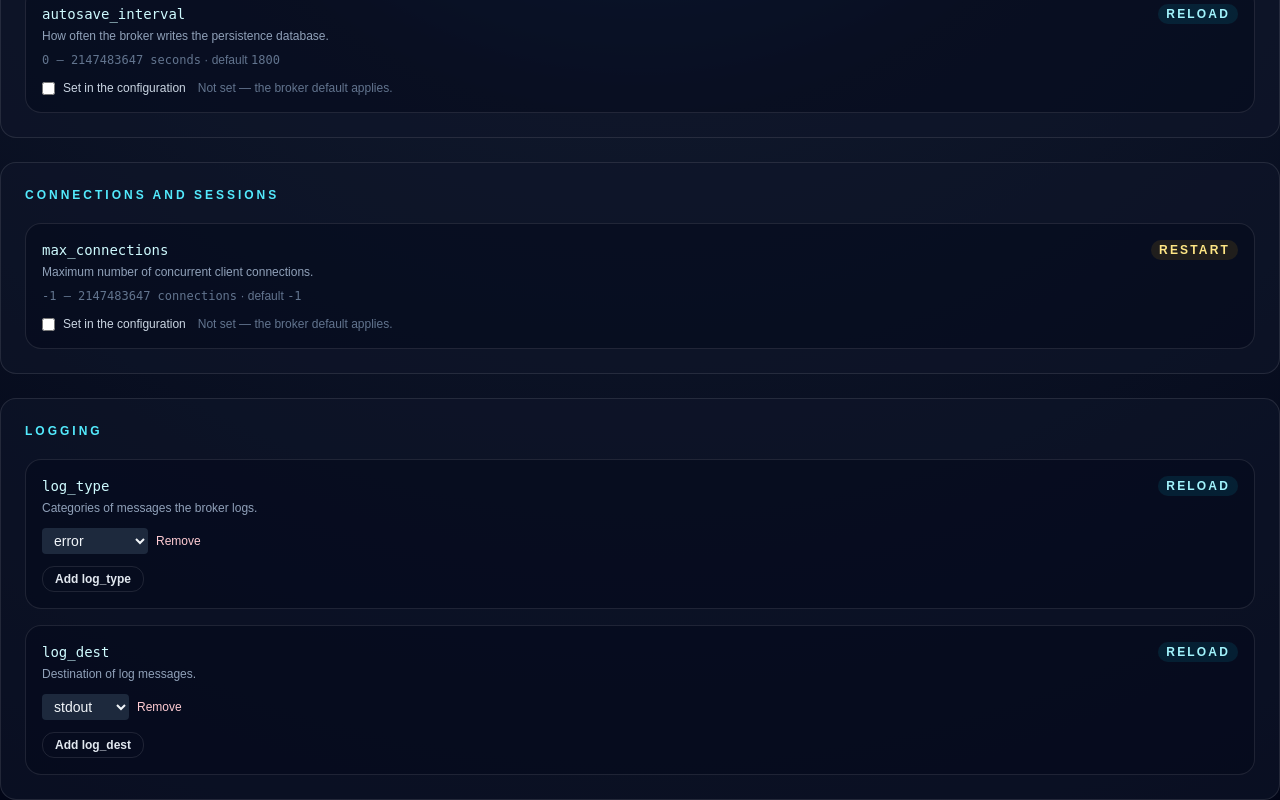
Scenario: SettingsPanel › adds and removes a repeatable directive
(page scrolled)
Expected: the text "Logging" is shown, left=25, top=424, right=103, bottom=438
Expected: the number of dropdowns named "log_type value" is 1, left=42, top=528, right=148, bottom=554
Click the button "Add log_type". click: (93, 579)
box: left=42, top=566, right=144, bottom=592
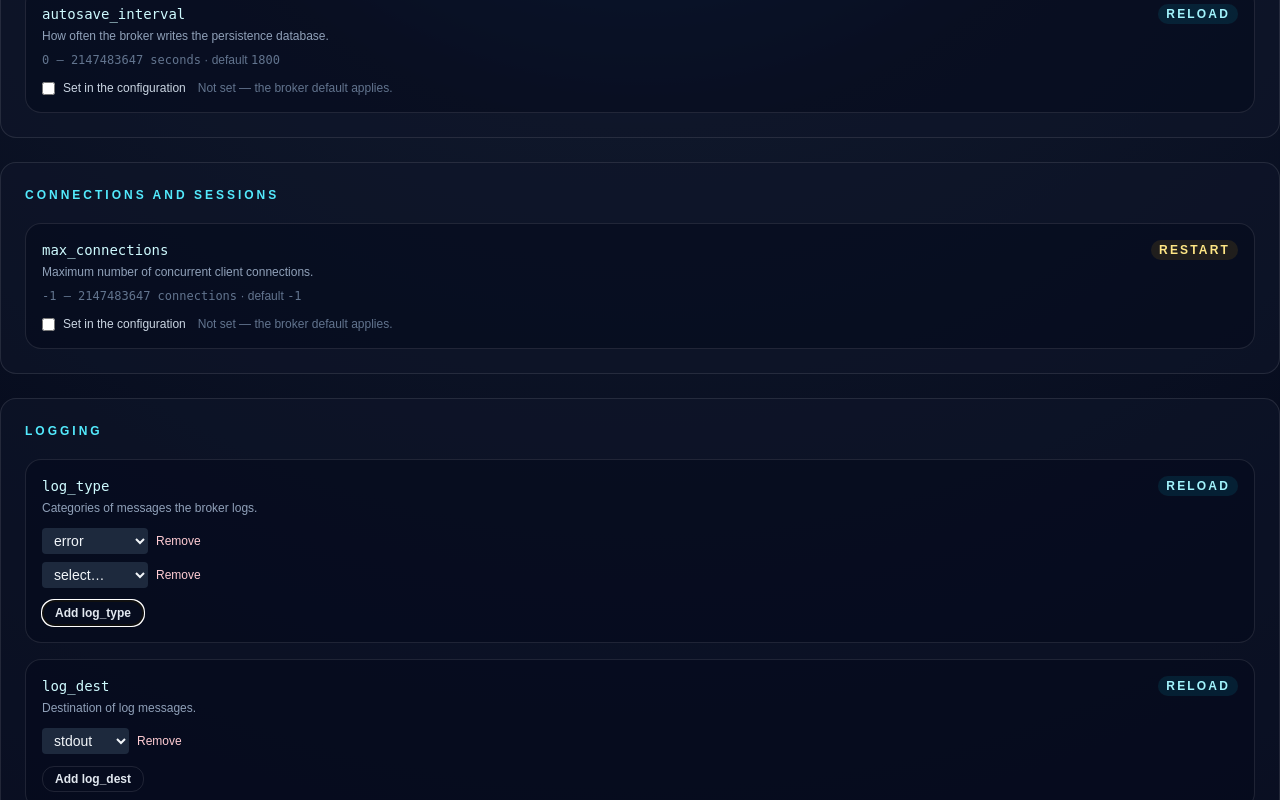
Expected: the number of dropdowns named "log_type value" is 2, left=42, top=528, right=148, bottom=554; left=42, top=562, right=148, bottom=588
Click the button with aria-label "Remove log_type 1". click: (178, 541)
box: left=156, top=533, right=201, bottom=549
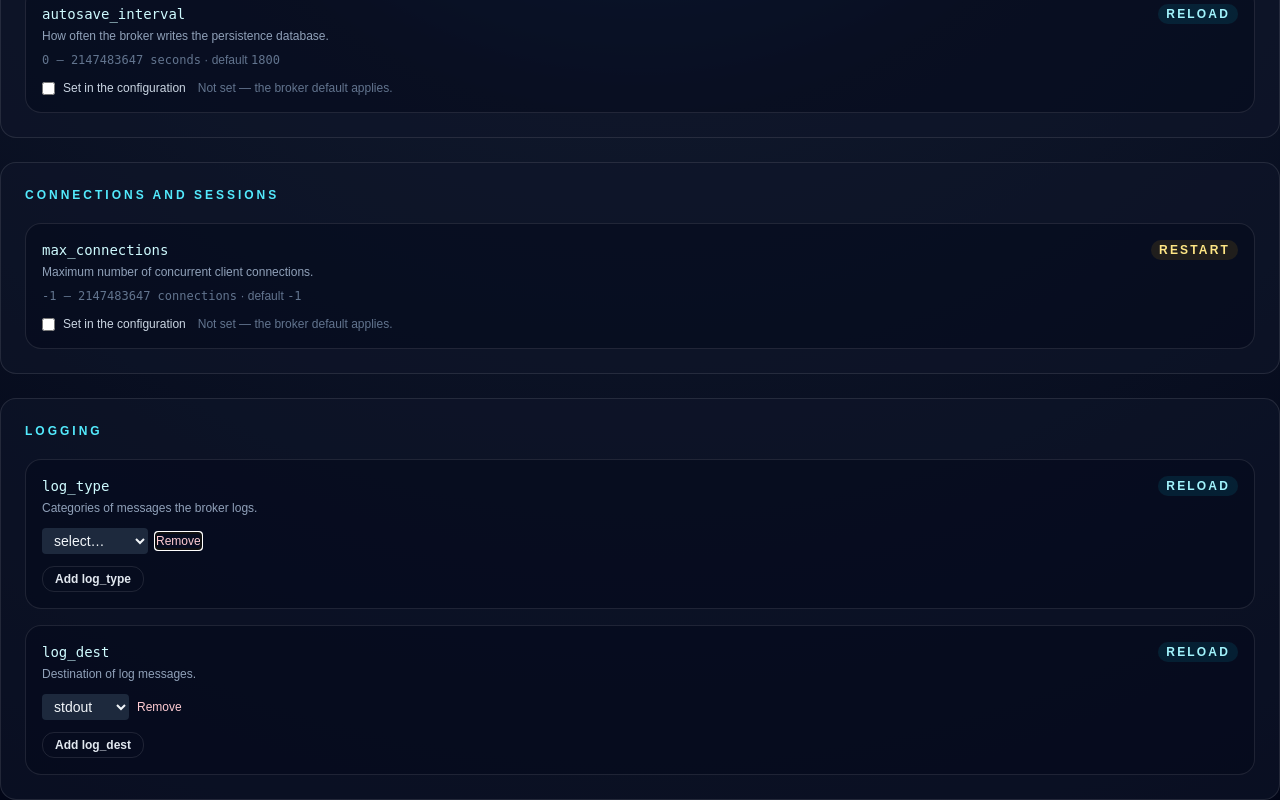
Expected: the number of dropdowns named "log_type value" is 1, left=42, top=528, right=148, bottom=554
